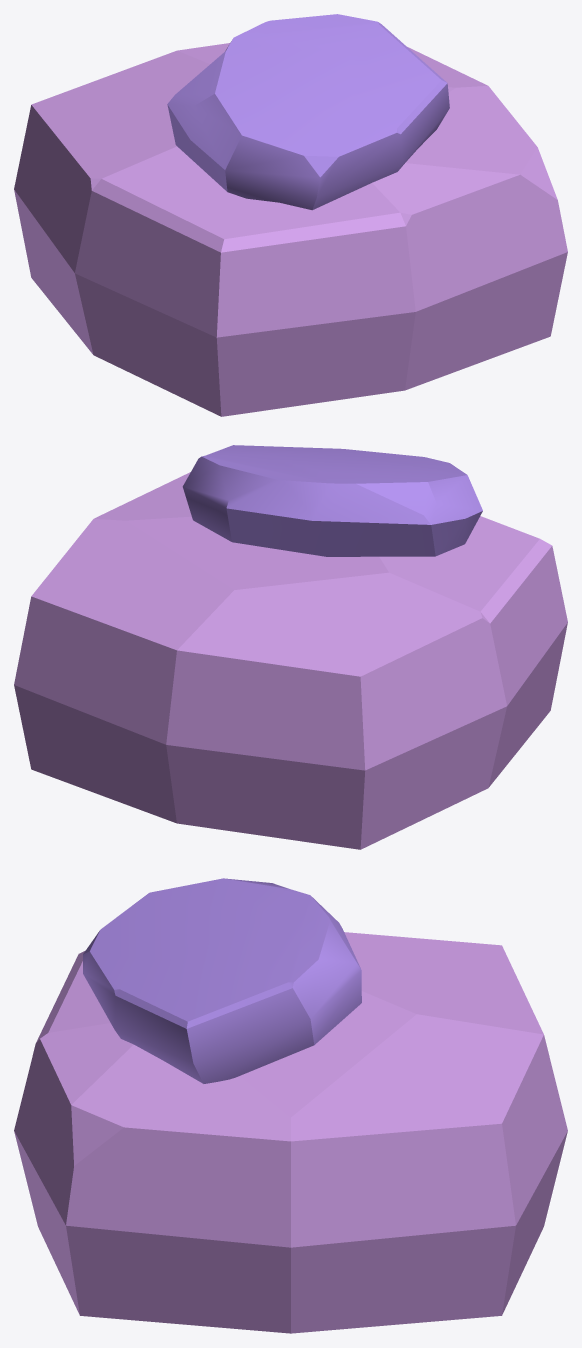
3 views of the same model, one above another, from view 1: azimuth 30°, elevation 25°; view 2: azimuth 150°, elevation 25°; view 3: azimuth 270°, elevation 25° (orthographic). The views are drawn at different scales.
Visible parts, largest first — view 1: Cube.011, Cube.012; view 2: Cube.011, Cube.012; view 3: Cube.011, Cube.012.
Part boxes in pixels (x1,y1,x2,y2): Cube.011: (14, 43, 567, 416); Cube.012: (167, 14, 449, 210); Cube.011: (14, 472, 567, 849); Cube.012: (182, 445, 482, 556); Cube.011: (14, 932, 567, 1333); Cube.012: (83, 878, 361, 1083).
Bounding box in the file's own units: 115 × 70.15 × 115.
